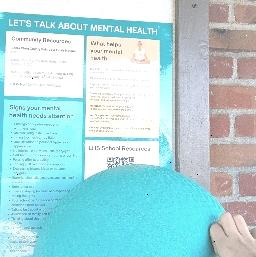algae: (30, 162, 243, 257)
